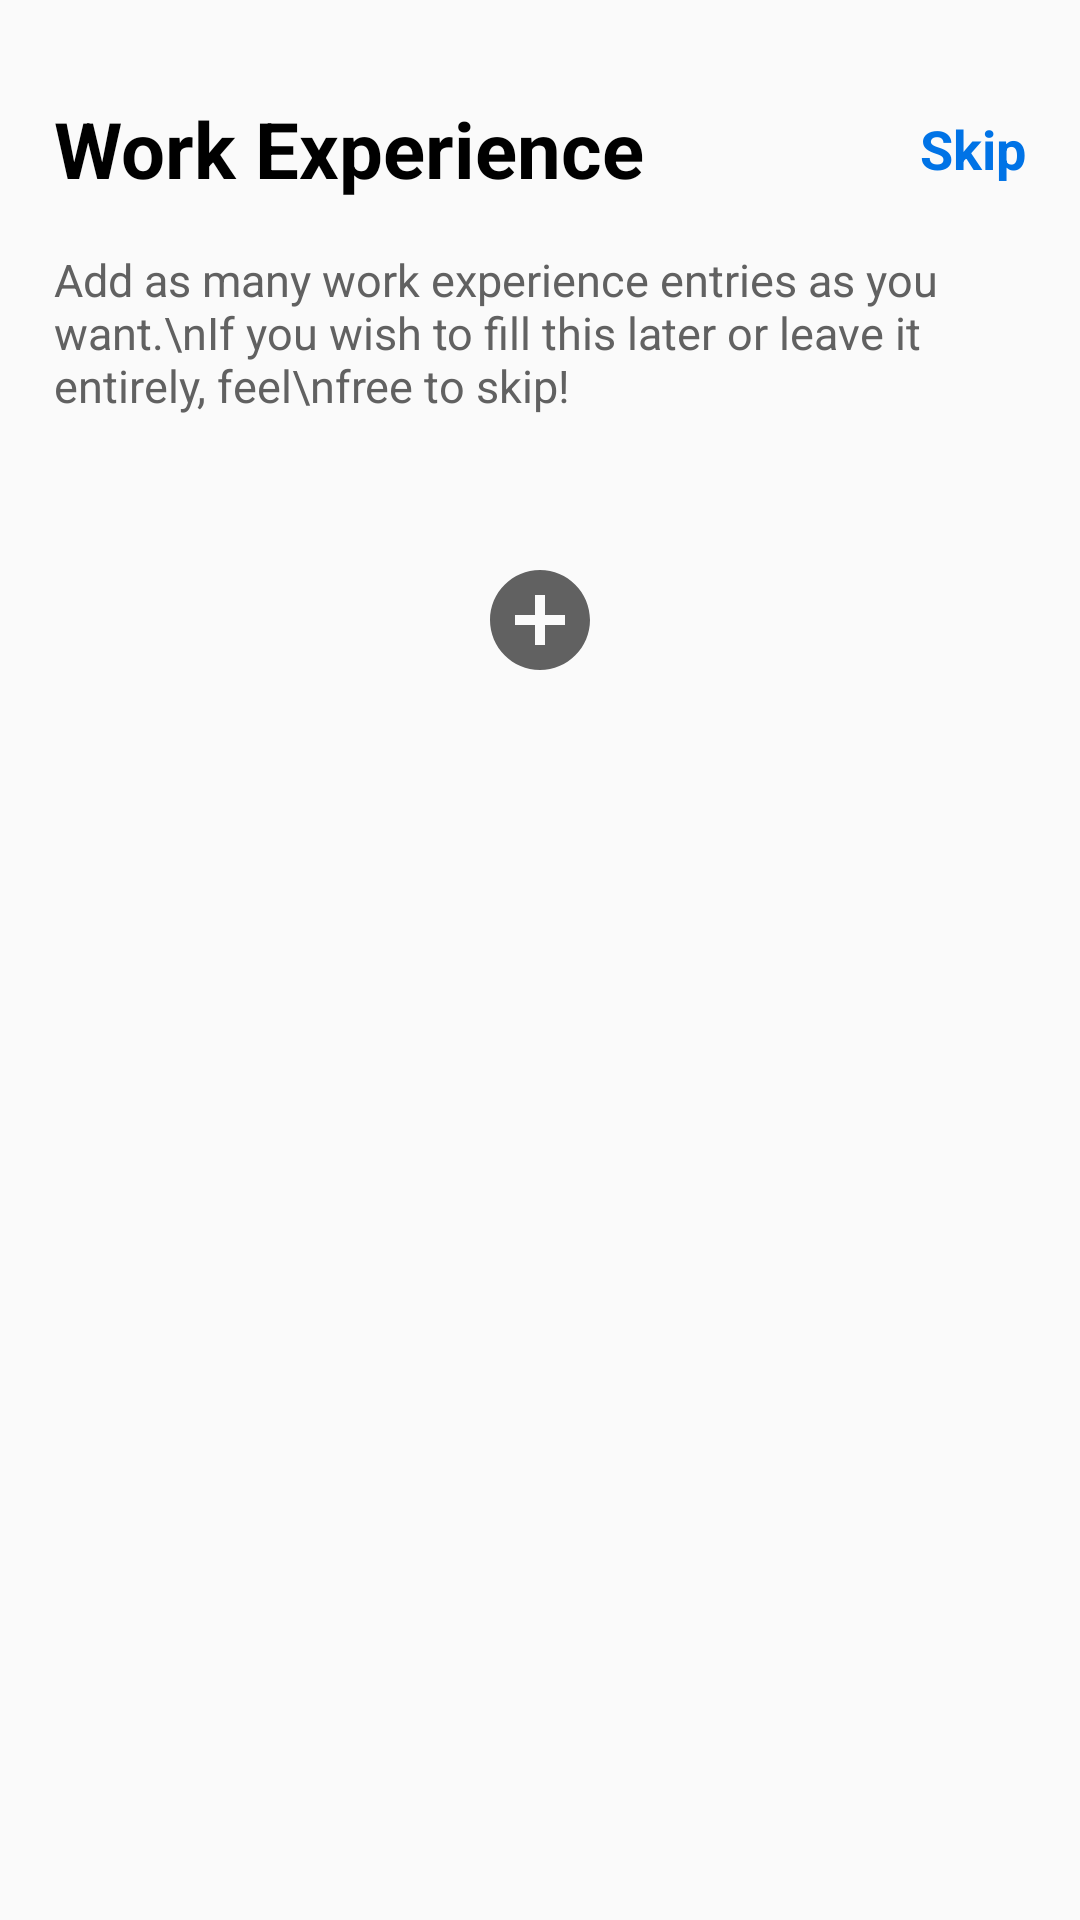

Where icons sit on this 1080x1920 app screen, as bbox(x1, y1, x2, y2):
add circle: bbox(490, 570, 590, 670)
